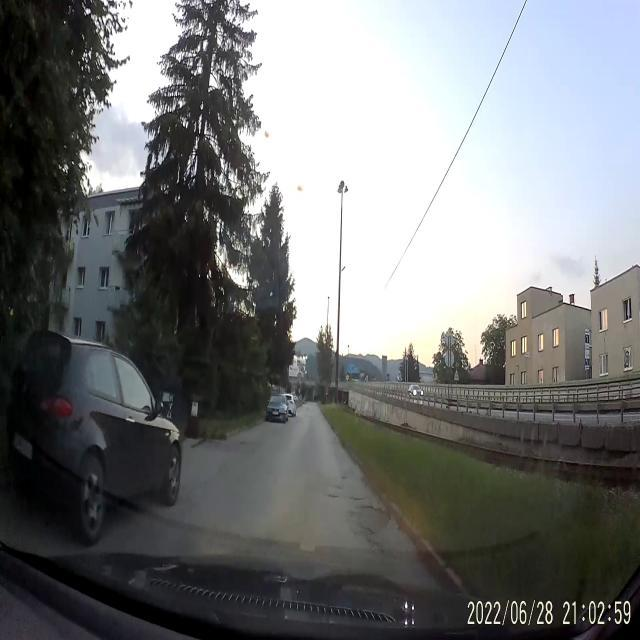Pothole: (347, 501, 390, 544)
